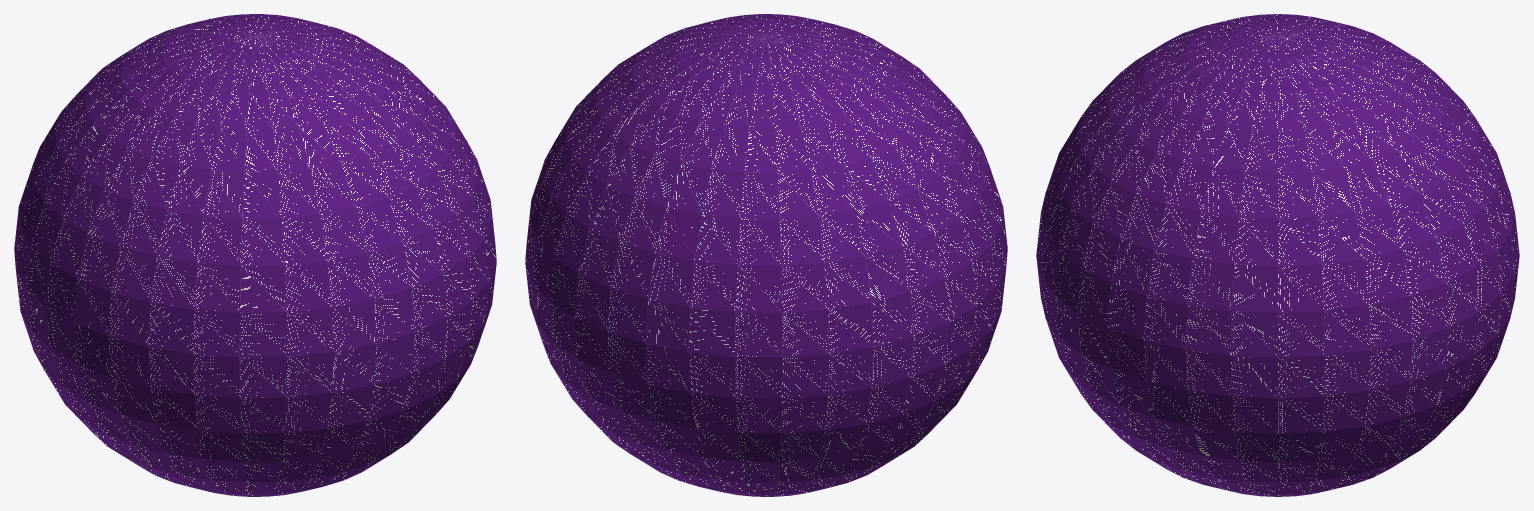
The model's file is fire.FBX.
3 renders of one model, left to right at view 1: azimuth 30°, elevation 25°; view 2: azimuth 150°, elevation 25°; view 3: azimuth 270°, elevation 25°, orthographic.
Parts seen in each view (by area): view 1: Mesher01; view 2: Mesher01; view 3: Mesher01.
Boxes of the visible parts, bbox=[...] form: Mesher01: bbox=[14, 14, 496, 496]; Mesher01: bbox=[525, 14, 1007, 496]; Mesher01: bbox=[1036, 14, 1519, 496].
Size of the model in its own units: 14.98 by 14.98 by 14.98.
Materials: 1 (1 with a texture image).
